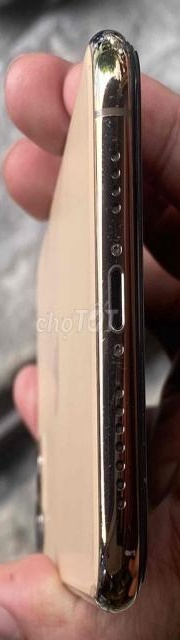scratch: (96, 276, 150, 600), (100, 36, 145, 268)
